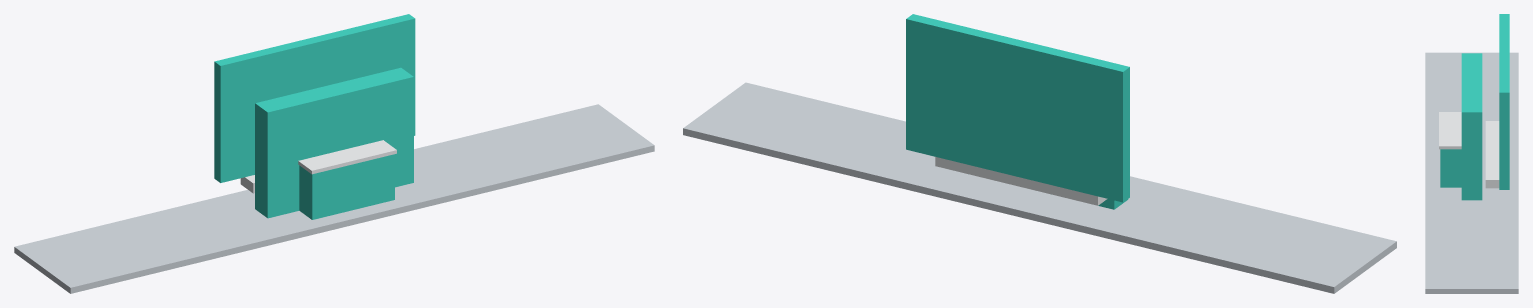
3 renders of one model, left to right at view 1: azimuth 30°, elevation 25°; view 2: azimuth 150°, elevation 25°; view 3: azimuth 270°, elevation 25°, orthographic. The views are drawn at different scales.
Parts seen in each view (by area): view 1: Exhibition Booth Concept; view 2: Exhibition Booth Concept; view 3: Exhibition Booth Concept.
Boxes of the visible parts, x1,y1,x2,y2 form: Exhibition Booth Concept: (14, 14, 654, 293); Exhibition Booth Concept: (683, 14, 1396, 293); Exhibition Booth Concept: (1425, 14, 1518, 293).
Bounding box in the file's own units: 12 × 2.9 × 2.
